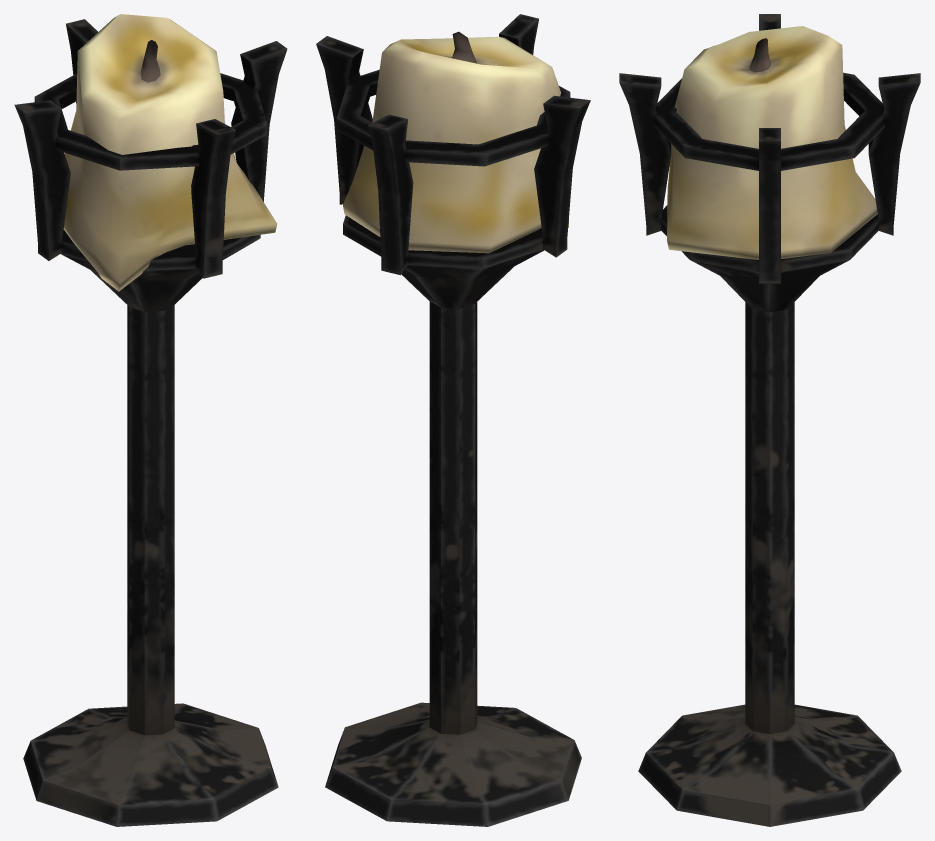
The model's file is candle_holder3.fbx.
The picture shows the model from 3 angles, left to right: view 1: azimuth 30°, elevation 25°; view 2: azimuth 150°, elevation 25°; view 3: azimuth 270°, elevation 25°; orthographic projection.
Parts seen in each view (by area): view 1: candleHolder3, candleHolder3_candle; view 2: candleHolder3, candleHolder3_candle; view 3: candleHolder3, candleHolder3_candle.
Part boxes in pixels (x1,y1,x2,y2): candleHolder3: (14, 19, 287, 826); candleHolder3_candle: (63, 14, 277, 291); candleHolder3: (316, 14, 590, 826); candleHolder3_candle: (343, 31, 568, 253); candleHolder3: (619, 14, 920, 826); candleHolder3_candle: (667, 26, 877, 259).
Size of the model in its own units: 32.6 by 87.63 by 32.6.
